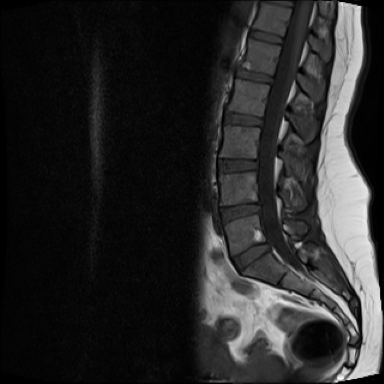Normal IVD: (229, 236, 272, 277), (213, 200, 265, 226), (220, 106, 265, 134), (214, 154, 260, 177), (234, 63, 276, 87), (249, 24, 287, 47)
